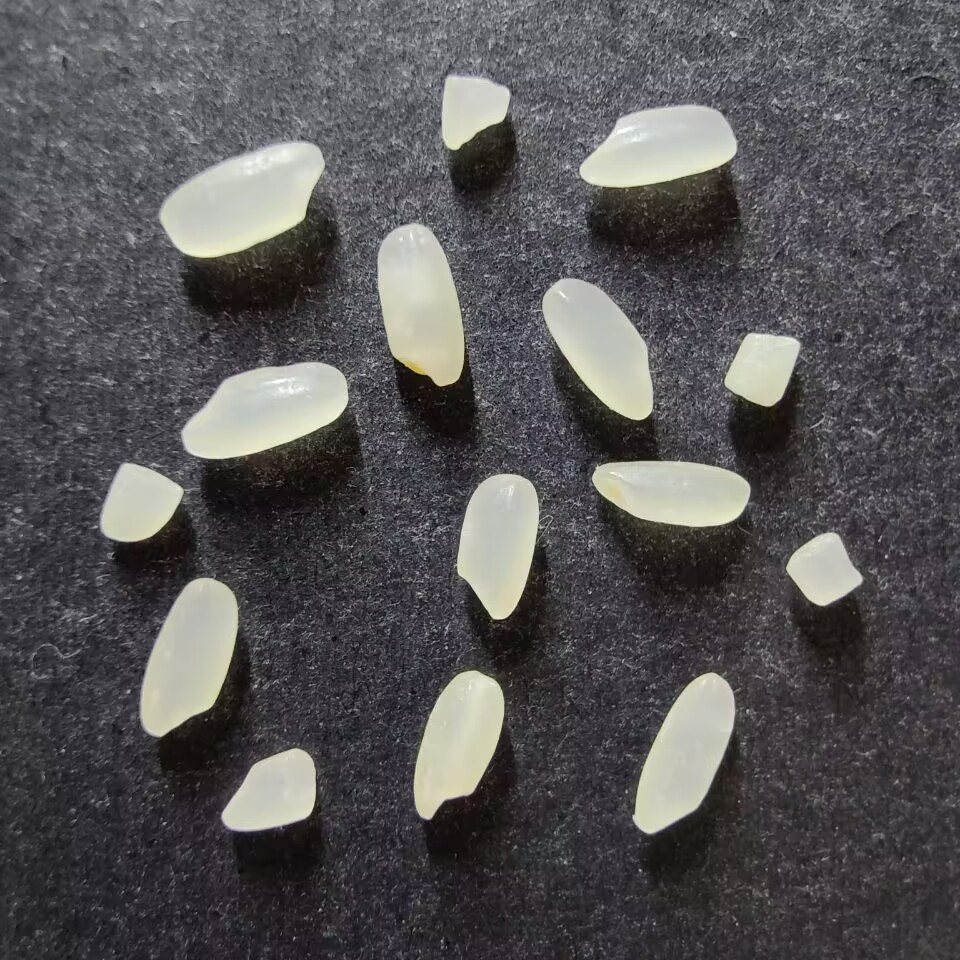broken: (220, 747, 316, 831), (100, 462, 183, 542), (724, 332, 800, 407), (785, 532, 862, 606), (440, 75, 510, 150)
rice: (158, 142, 325, 257), (633, 671, 735, 834), (181, 360, 347, 459), (541, 276, 654, 421), (140, 577, 238, 737), (376, 223, 464, 386), (413, 670, 504, 820), (579, 105, 737, 187), (455, 473, 539, 620), (591, 460, 749, 527)
